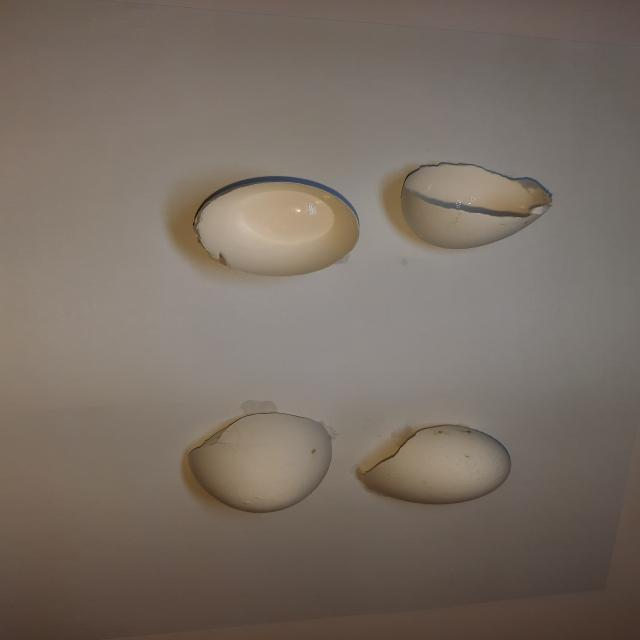egg shell: (184, 174, 364, 282), (178, 408, 340, 520), (346, 420, 520, 508), (390, 162, 556, 254)
